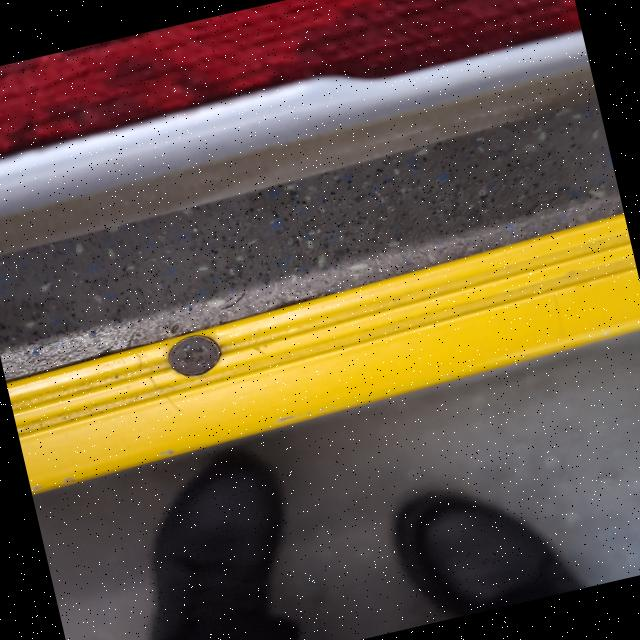Pozidriv: (154, 329, 225, 384)
